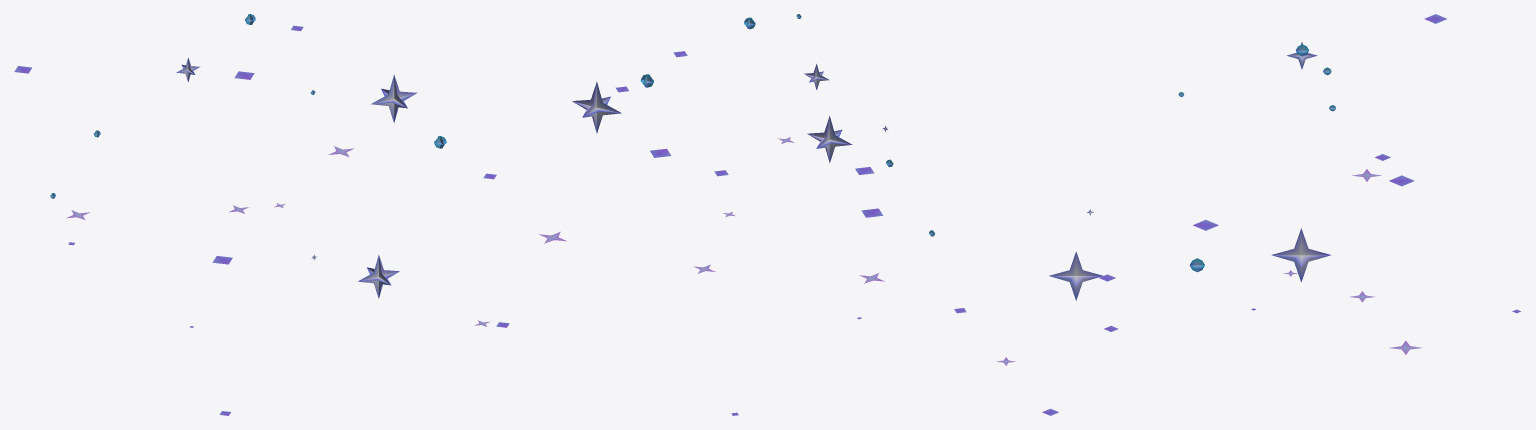
Rendered from space-stars-star-cluster_v1.glb.
3 renders of one model, left to right at view 1: azimuth 30°, elevation 25°; view 2: azimuth 150°, elevation 25°; view 3: azimuth 270°, elevation 25°, orthographic. The views are drawn at different scales.
Parts seen in each view (by area): view 1: Star Cluster_v1; view 2: Star Cluster_v1; view 3: Star Cluster_v1.
Boxes of the visible parts, box(x1,y1,x2,y2) form: Star Cluster_v1: box(14, 14, 509, 415); Star Cluster_v1: box(539, 14, 966, 415); Star Cluster_v1: box(997, 14, 1520, 415).
Bounding box in the file's own units: 0.4321 × 0.3616 × 0.5.
